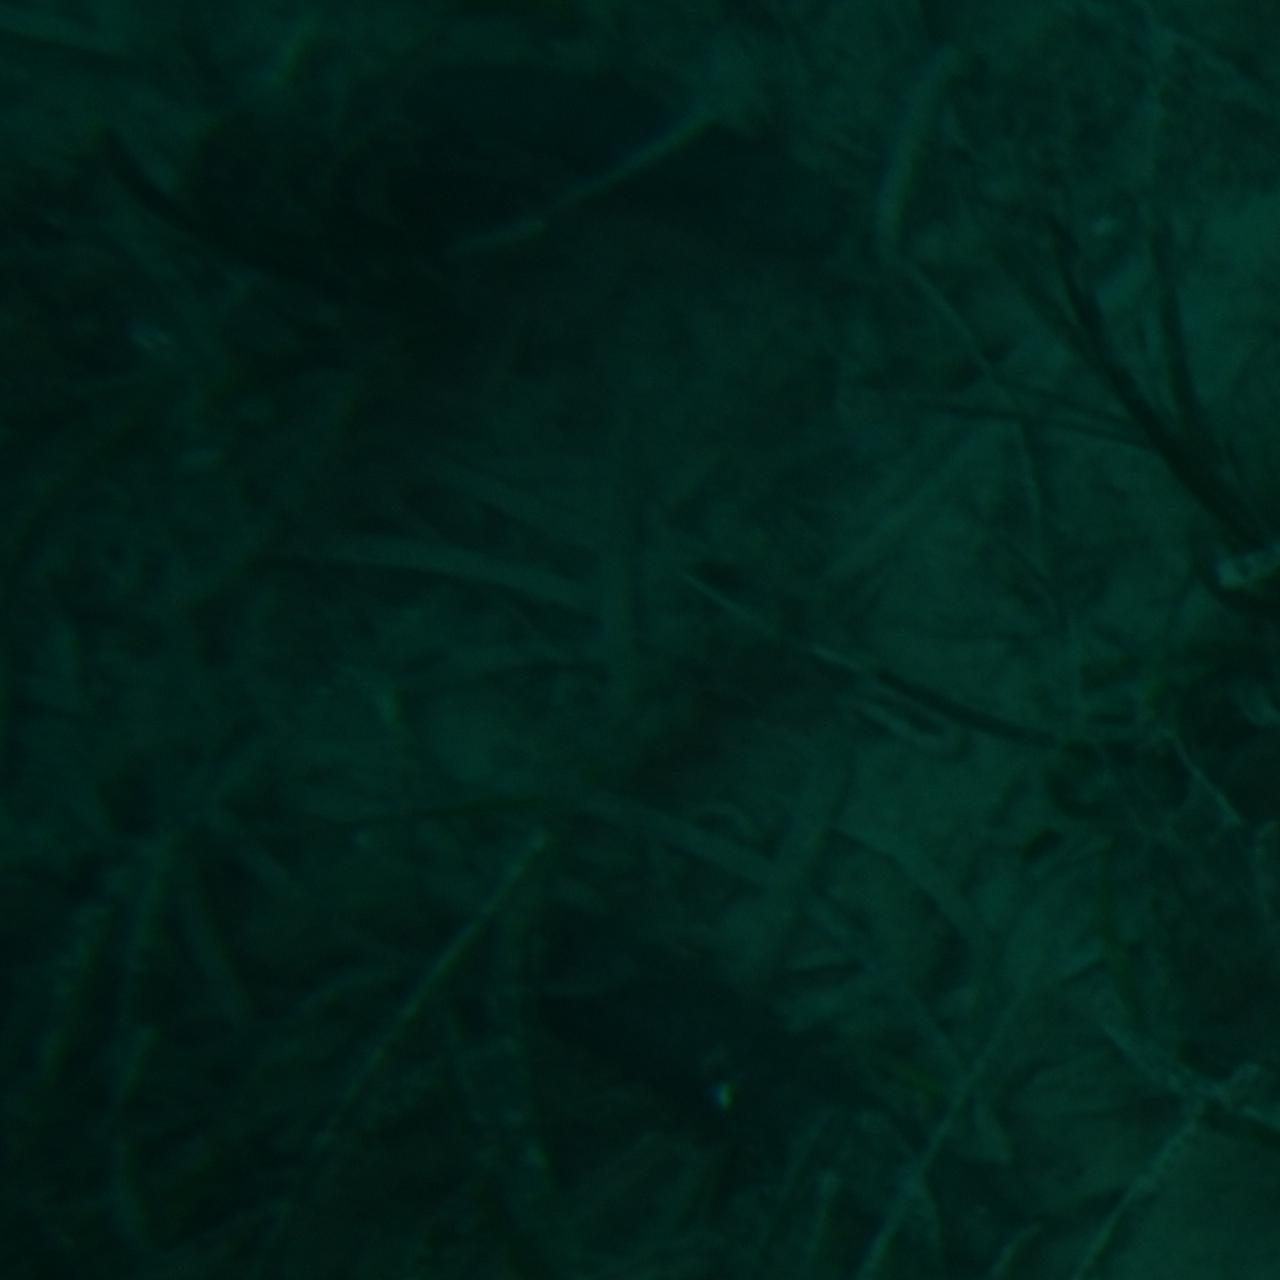Holothuria tubulosa: (433, 890, 1032, 1280), (179, 59, 917, 326)
